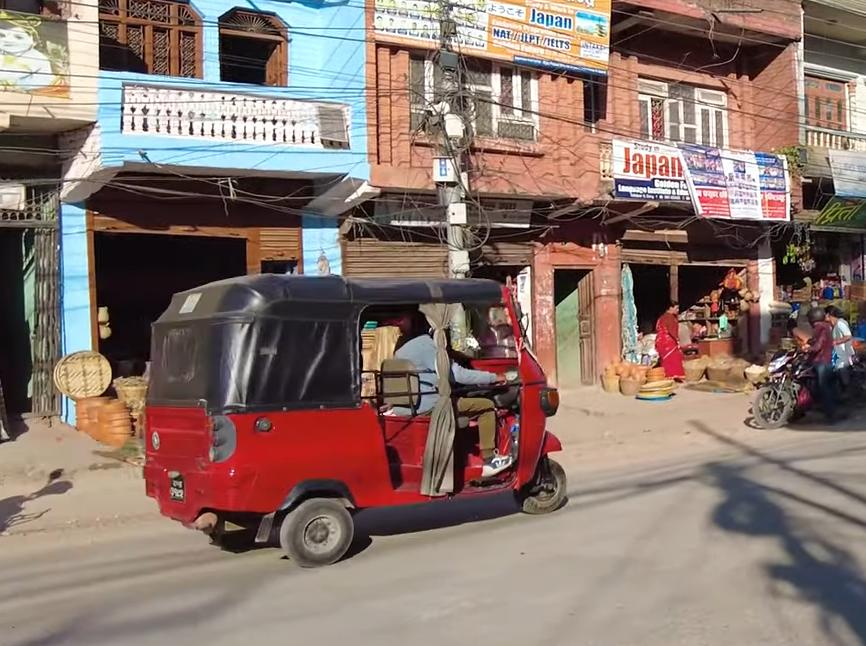auto_rickshaw: (143, 268, 571, 571)
